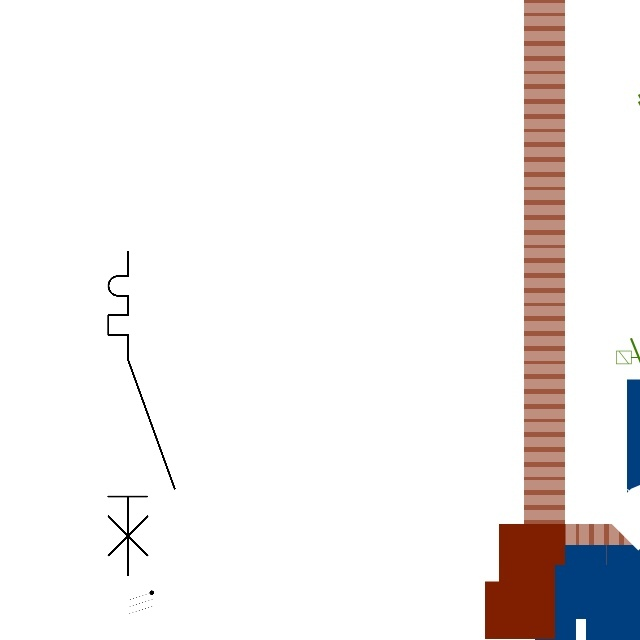interruptor_termomagnetico: (100, 243, 183, 583)
